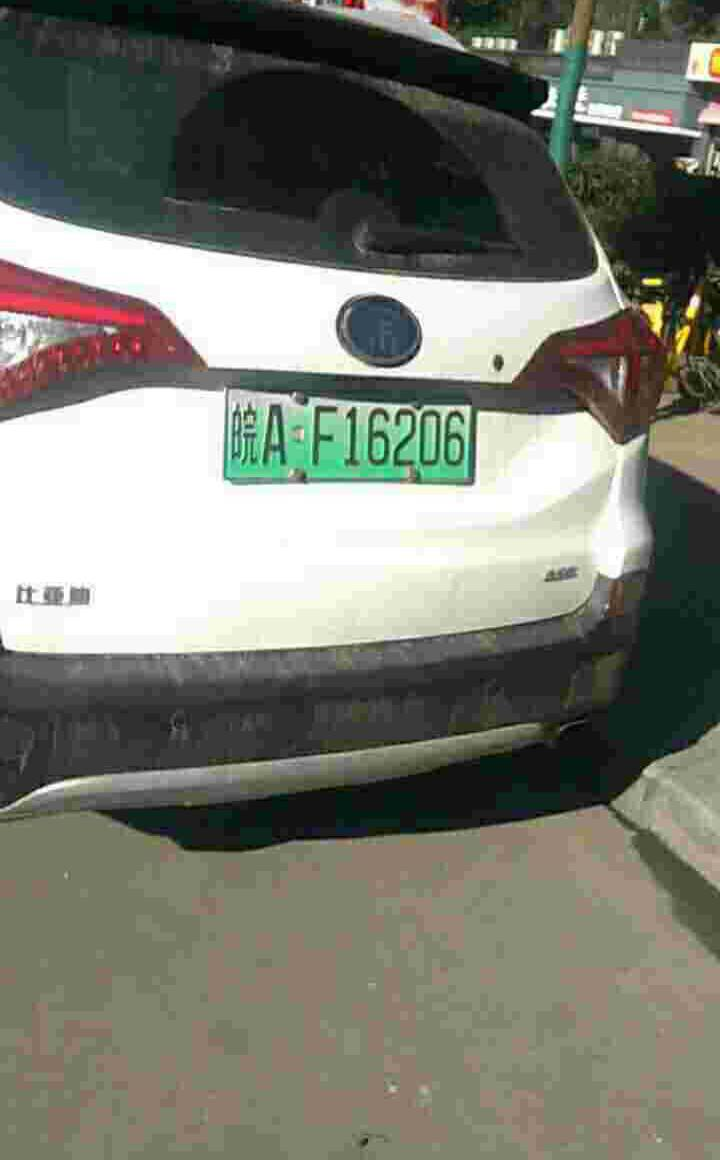car: (207, 386, 492, 482)
